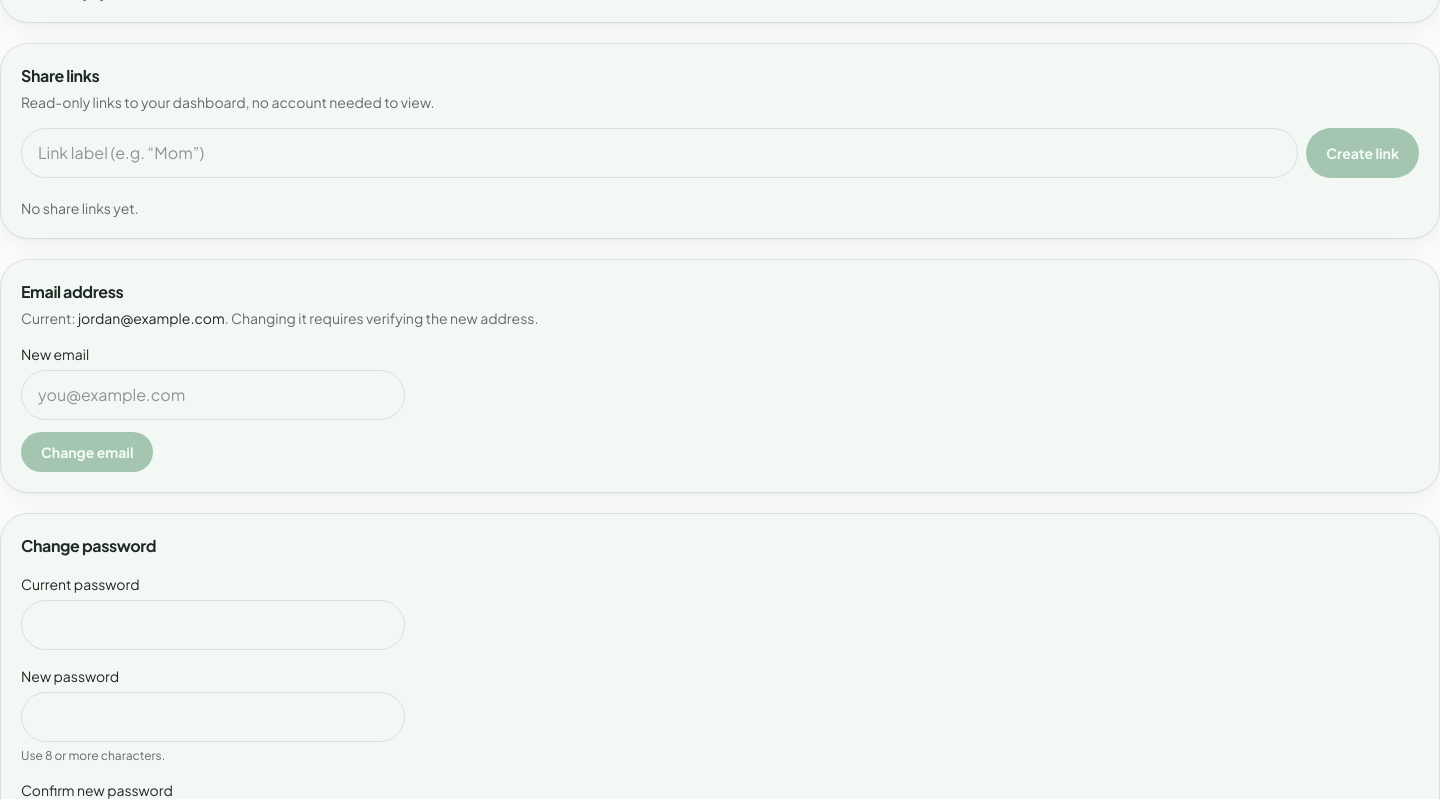
Test: Security change email › rejects submitting the same email as the current one
(page scrolled)
Expected: the text "jordan@example.com" is shown, [78,308,225,326]
Type " Jordan@example.com " into the field labelled "New email".
click(213, 394); type(" Jordan@example.com ")  # box [21,370,405,420]
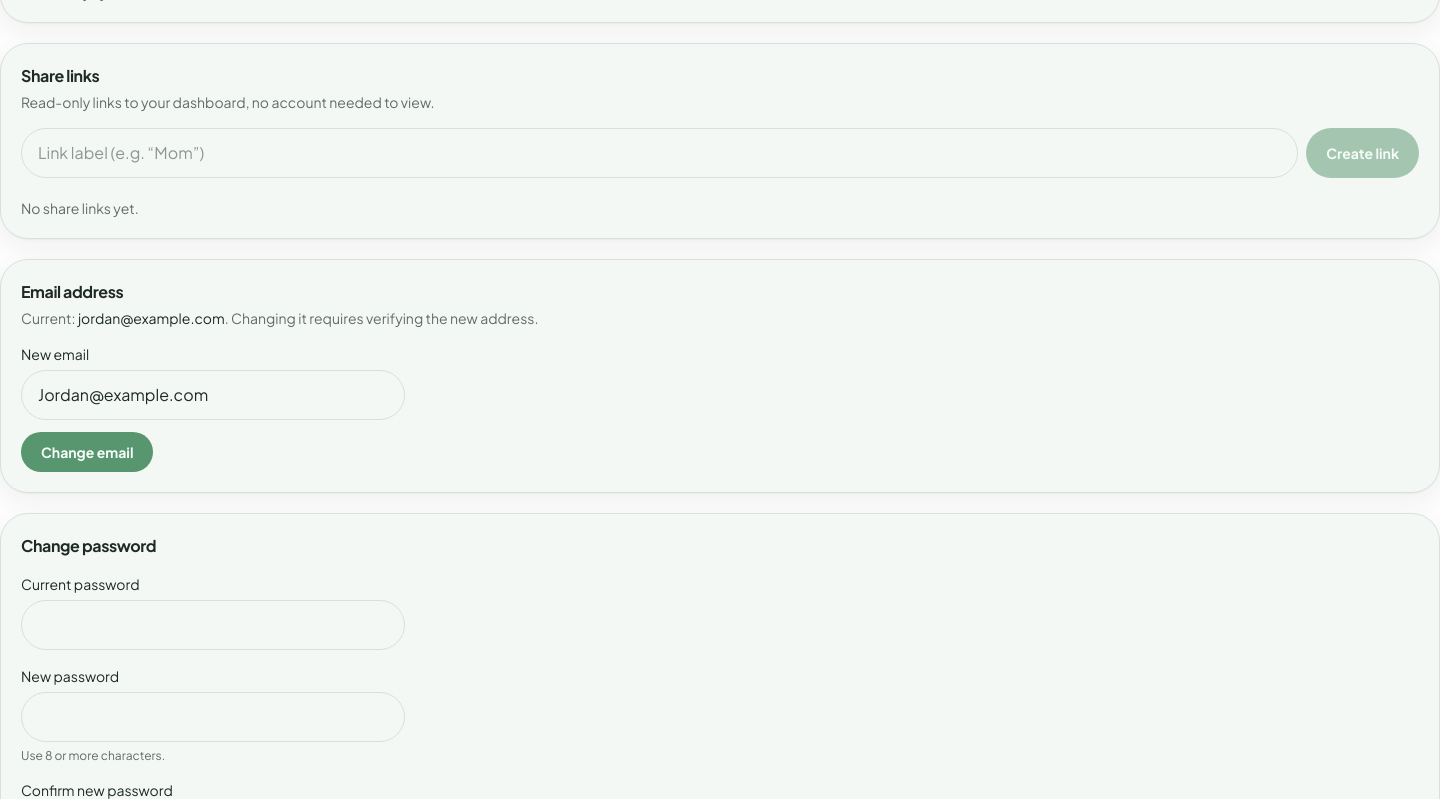
Click the button "Change email".
click(87, 452)  # box [21,432,153,472]
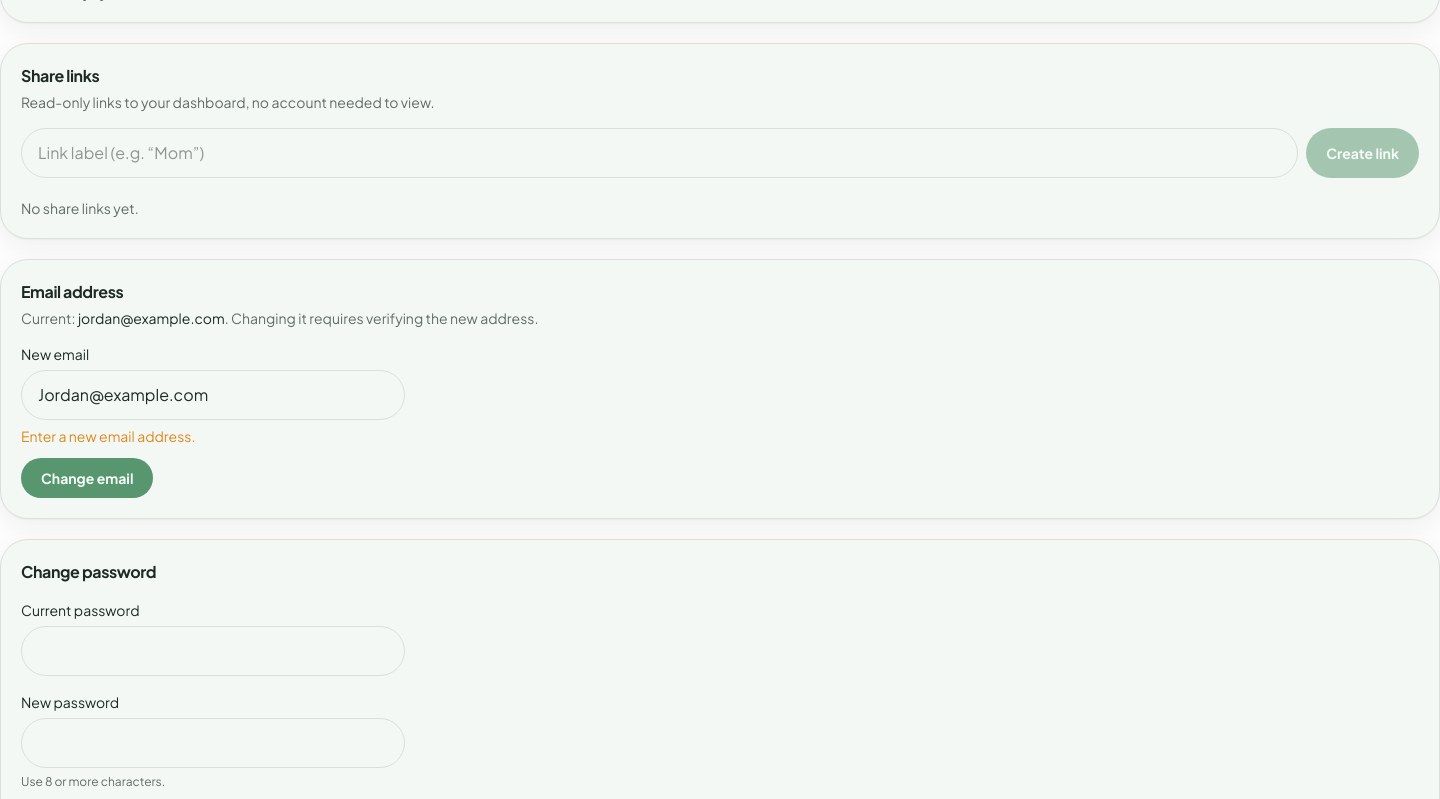
Result: the message reads "Enter a new email address." at [21,426,195,444]
